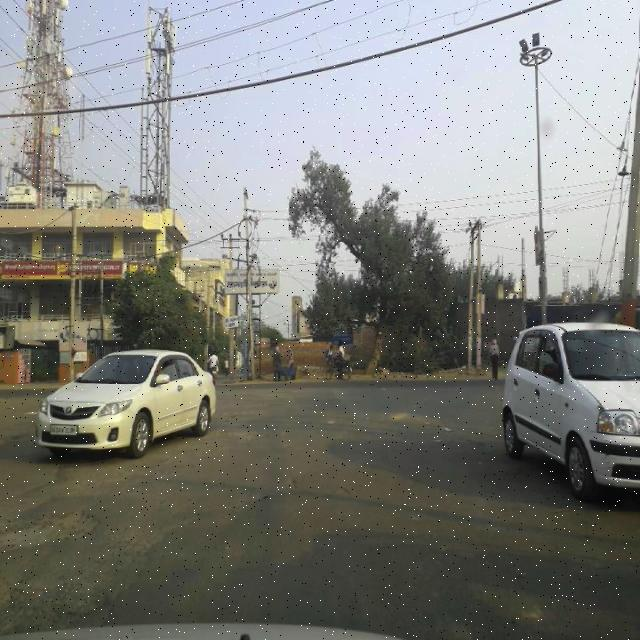D40: (1, 547, 131, 639), (1, 499, 107, 542)
